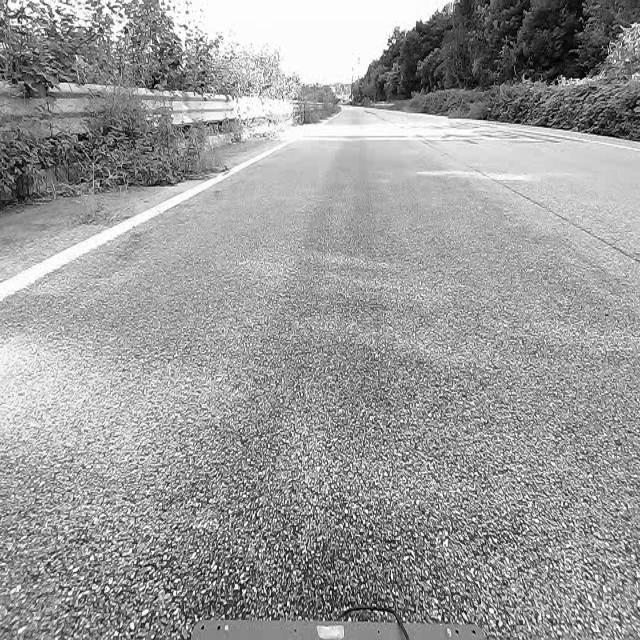Lane: (2, 133, 294, 304), (0, 140, 294, 303)
